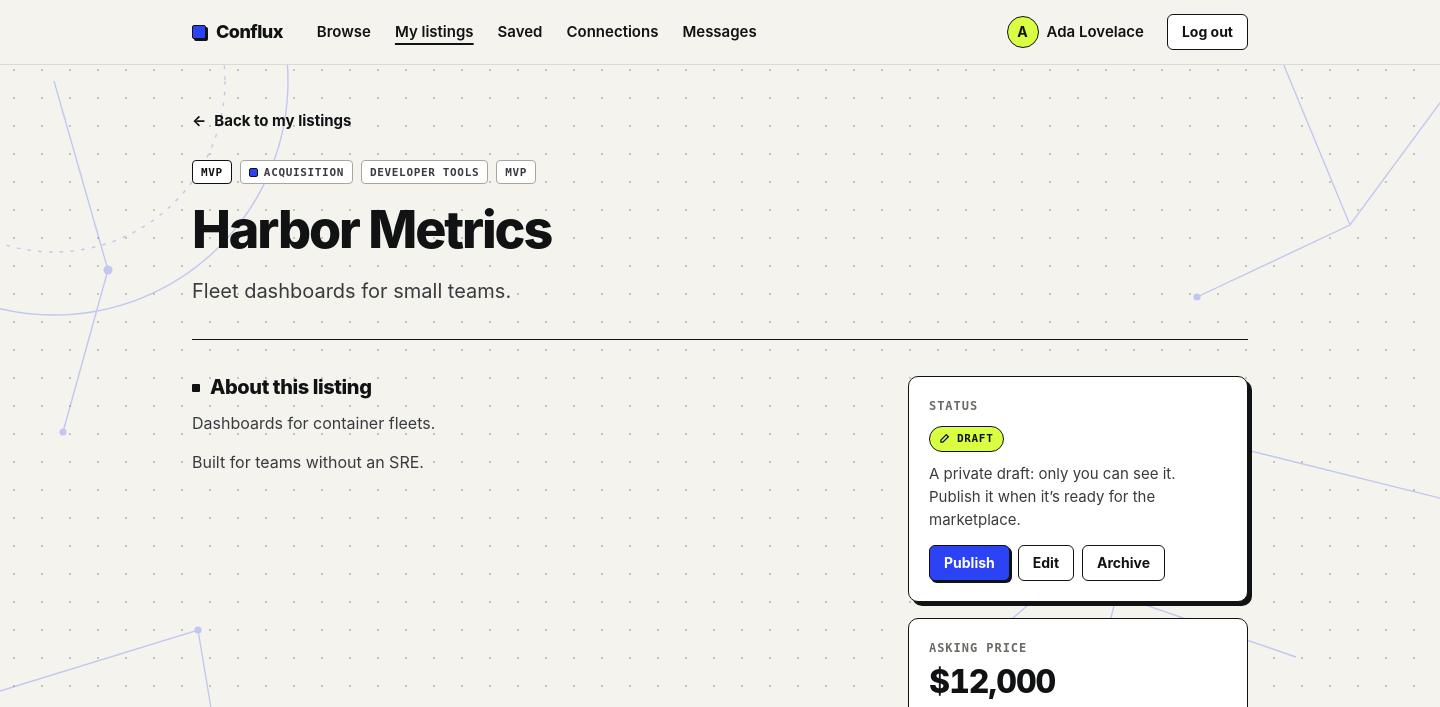
Test case: My listing › explains a 403 on archive and keeps the listing as it was
Click the button "Archive" at (1124, 563), box [1082,545,1165,581]
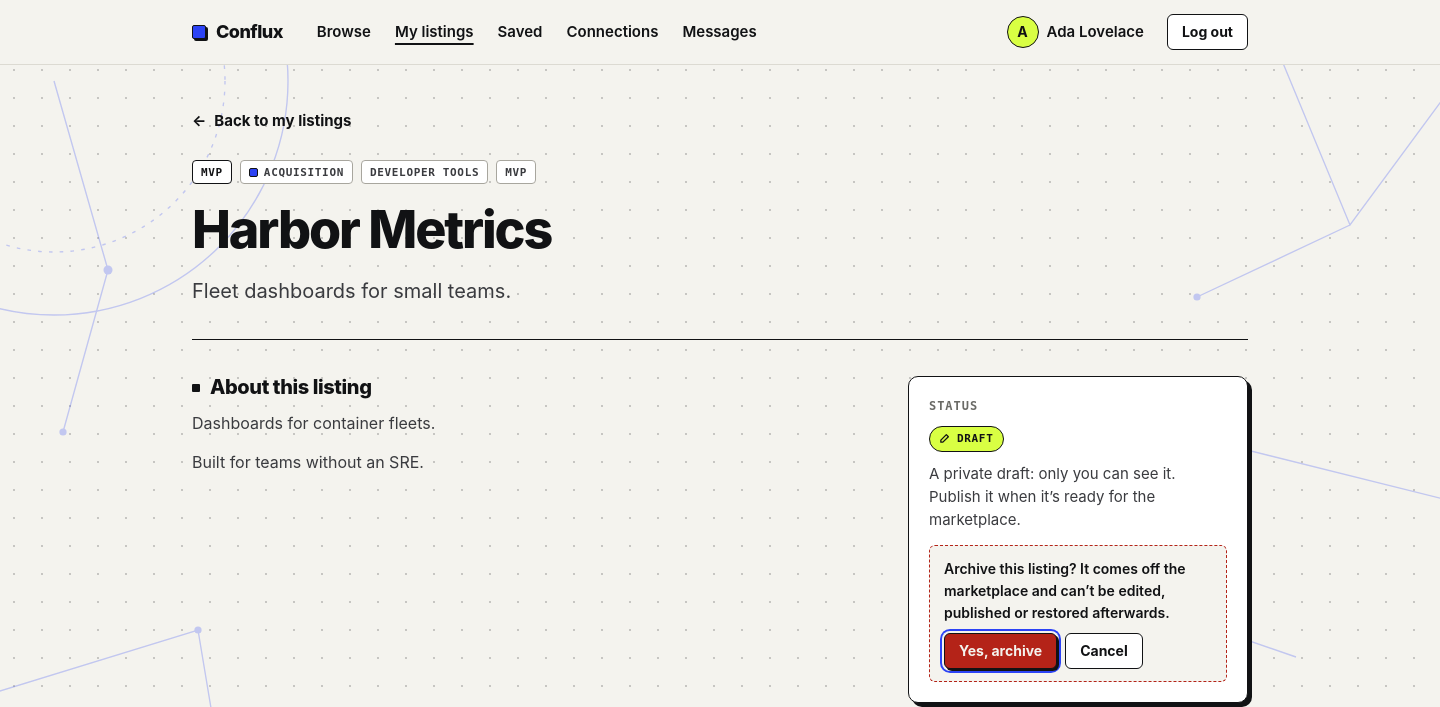
Click the button "Yes, archive" at (1001, 652), box [944,634,1057,670]
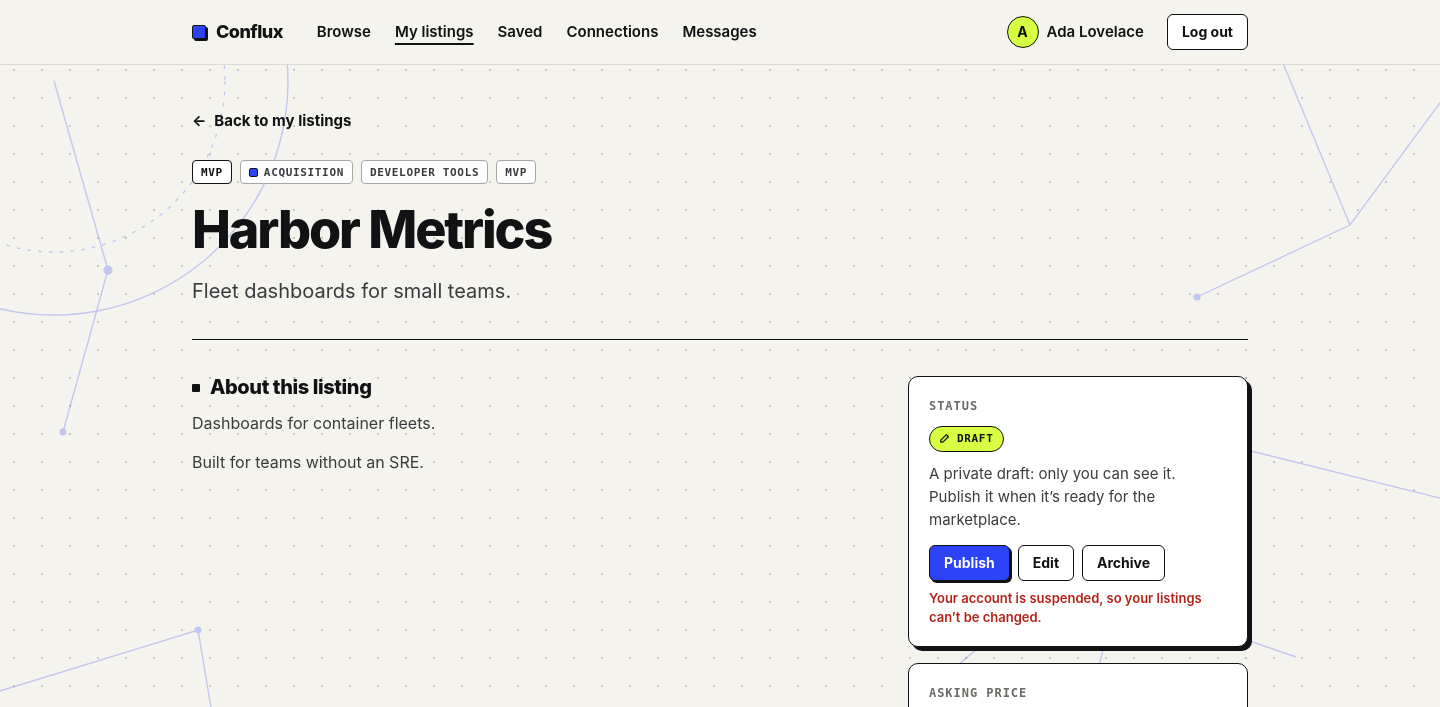
expect the text "Draft" is shown: met, box [929,426,1004,452]
expect the message reads "Your account is suspended, so your listings can’t be changed.": met, box [929,590,1202,625]
